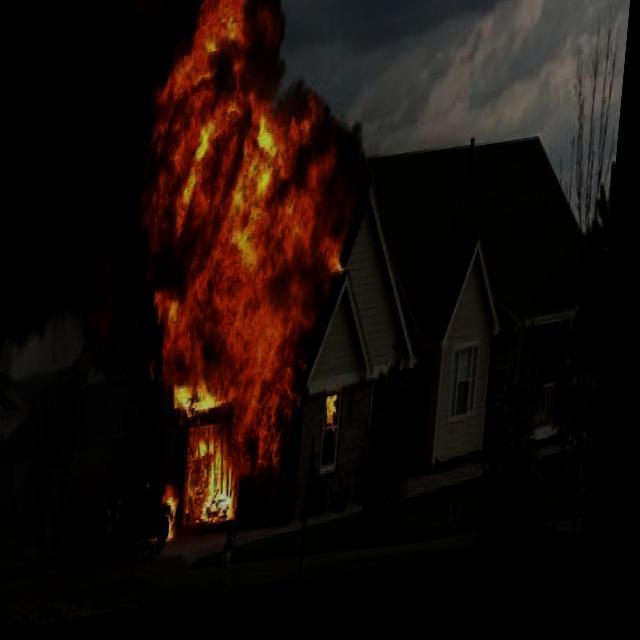Fire: (109, 0, 378, 548)
